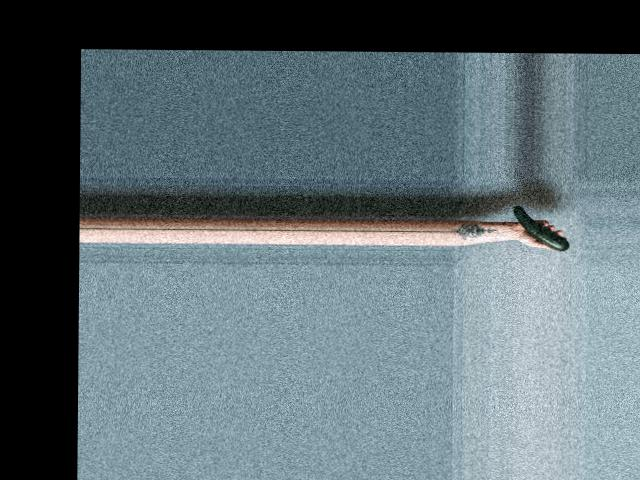cucumber: (513, 205, 570, 250)
